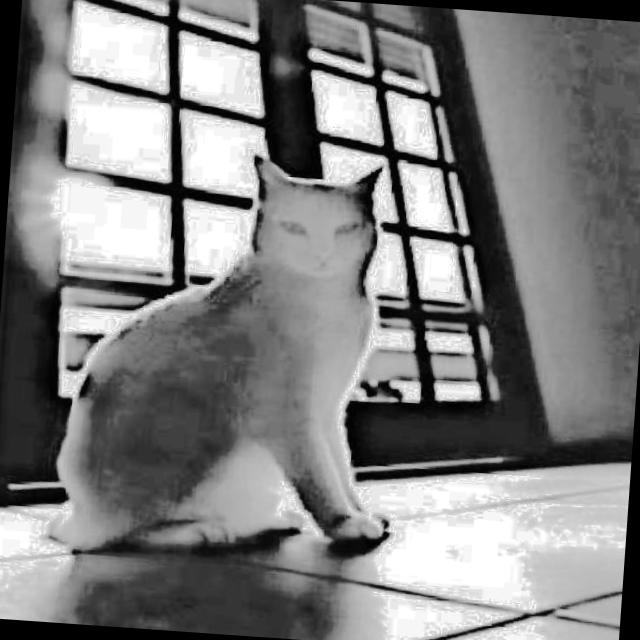Cat: (35, 133, 432, 588)
